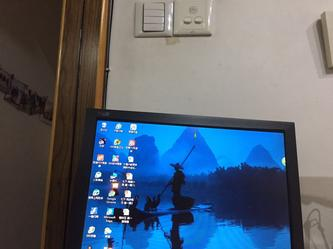switch: (141, 15, 166, 24), (142, 22, 166, 31), (142, 2, 165, 10), (142, 11, 166, 16), (195, 16, 205, 25), (184, 16, 193, 24)
